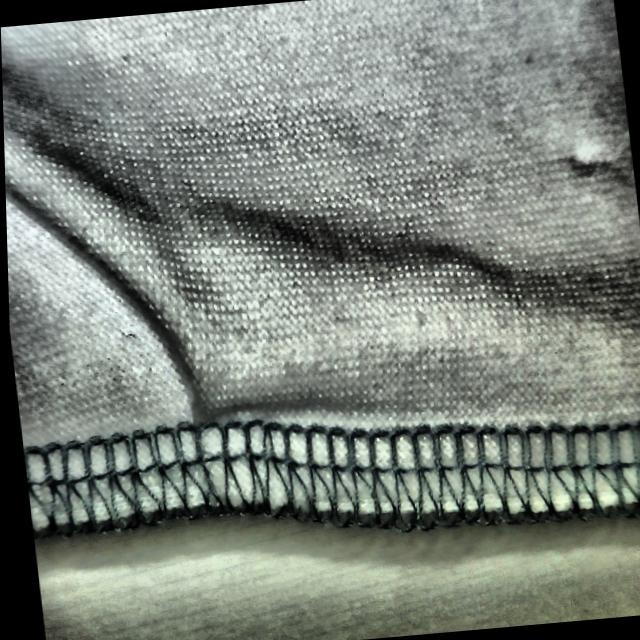seam: (114, 280, 348, 574)
